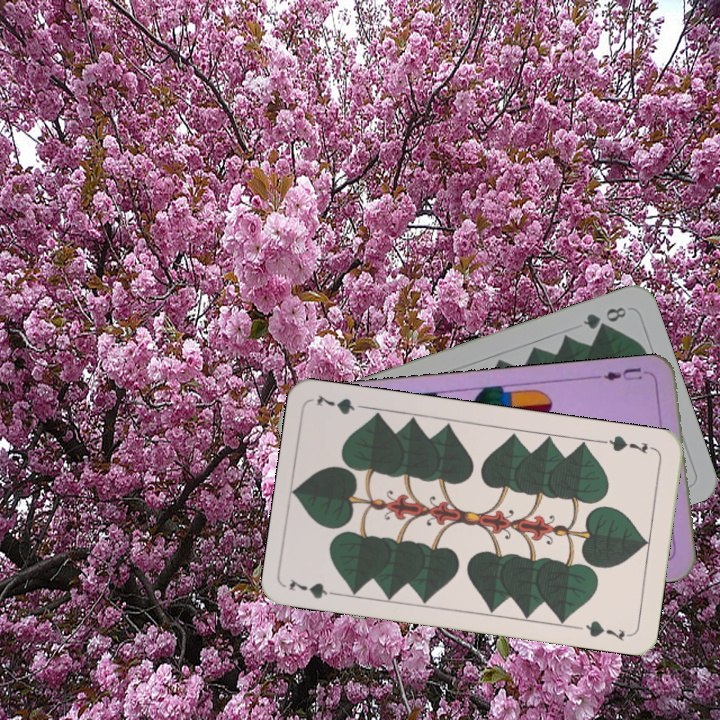EU: (594, 363, 654, 384)
G7: (599, 431, 658, 457), (285, 575, 344, 601)
G8: (578, 302, 629, 332)
